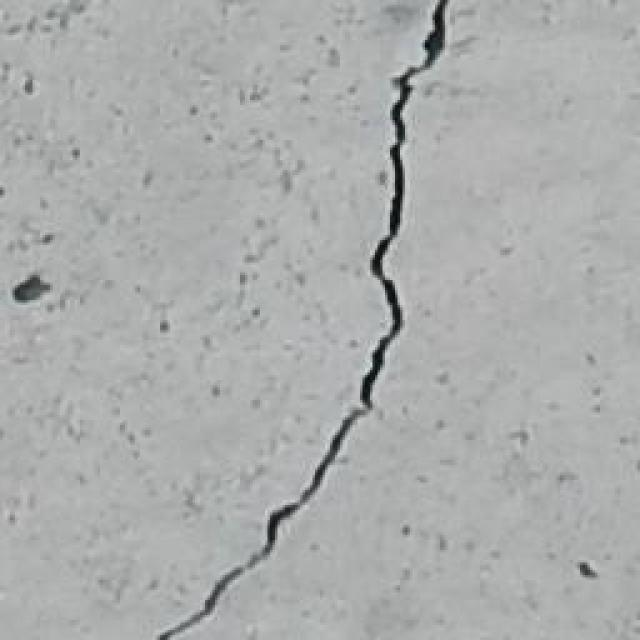concrete-crack: (155, 0, 452, 640)
